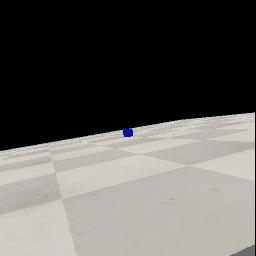box: (123, 129, 133, 137)
